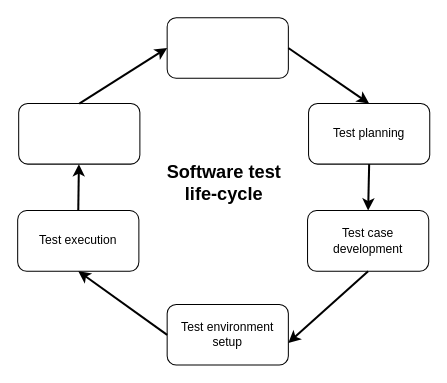
This 447x383 diagram has some shape labels left out. Each missing label, with the centre of its shape:
"Requirement analysis" belongs at (227,47).
"Test cycle closure" belongs at (79,133).
